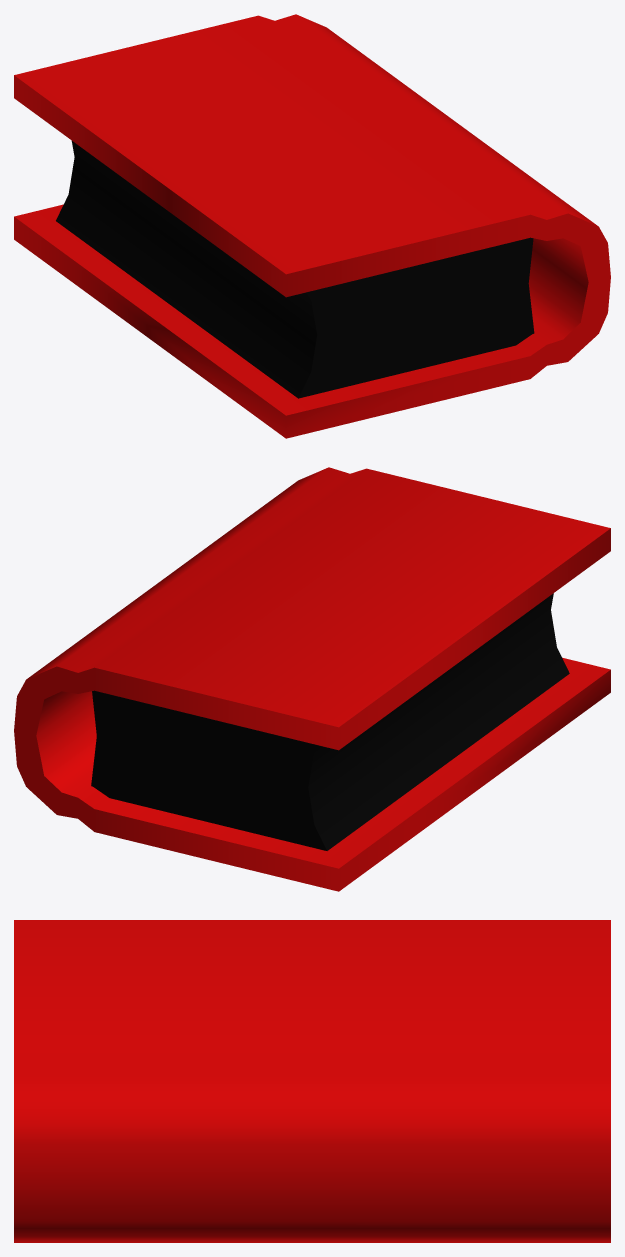
File: Book_H.fbx
The picture shows the model from 3 angles, top to bottom: view 1: azimuth 30°, elevation 25°; view 2: azimuth 150°, elevation 25°; view 3: azimuth 270°, elevation 25°; orthographic projection. The views are drawn at different scales.
Parts seen in each view (by area): view 1: U_Book_H; view 2: U_Book_H; view 3: U_Book_H.
Part boxes in pixels (x1=…): U_Book_H: x1=14, y1=14, x2=610, y2=438; U_Book_H: x1=14, y1=467, x2=610, y2=891; U_Book_H: x1=14, y1=920, x2=610, y2=1242.
Bounding box in the file's own units: 40.3 × 19.48 × 58.45.
